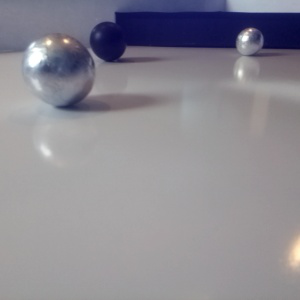zone: (115, 11, 300, 49)
